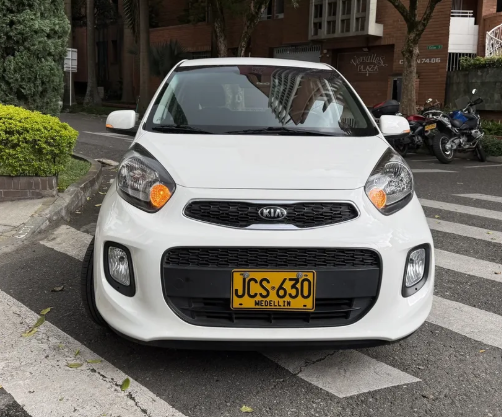placa: (231, 269, 315, 311)
